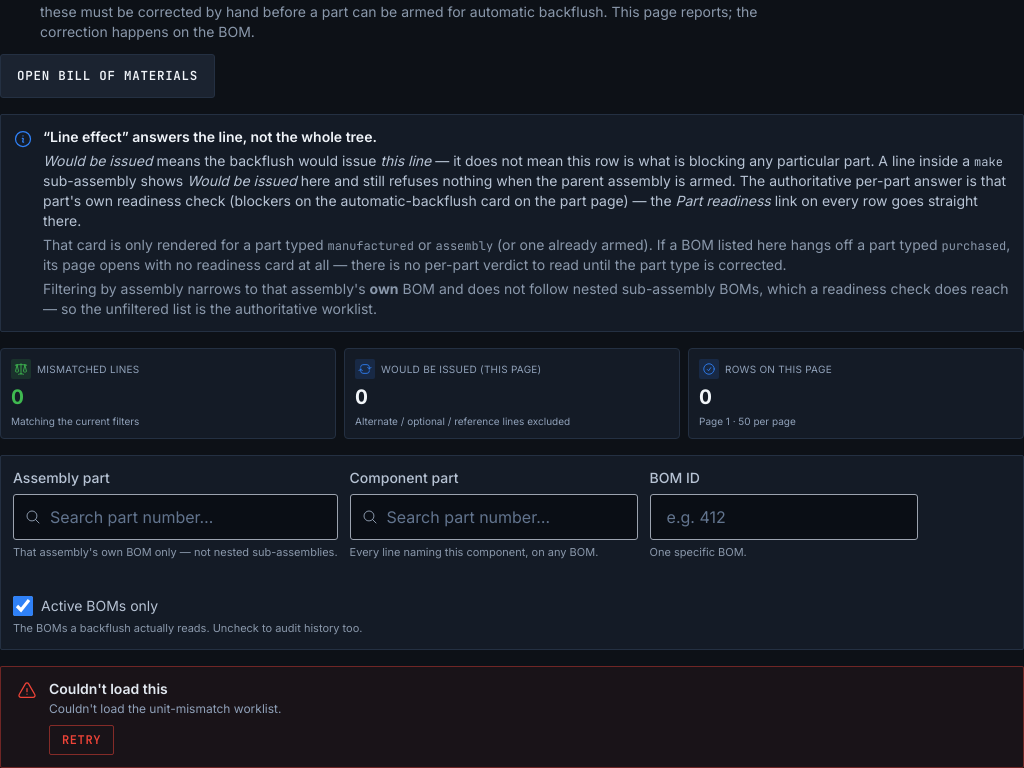
Scenario: BOMUomMismatches — failed load › Retry actually re-runs the fetch and recovers
(page scrolled)
Expected: the message "Couldn't load this Couldn't load the unit-mismatch worklist. Retry" is shown, [0, 666, 1023, 767]
Step 1. Click the button "Retry" → (82, 740), box [49, 724, 114, 754]
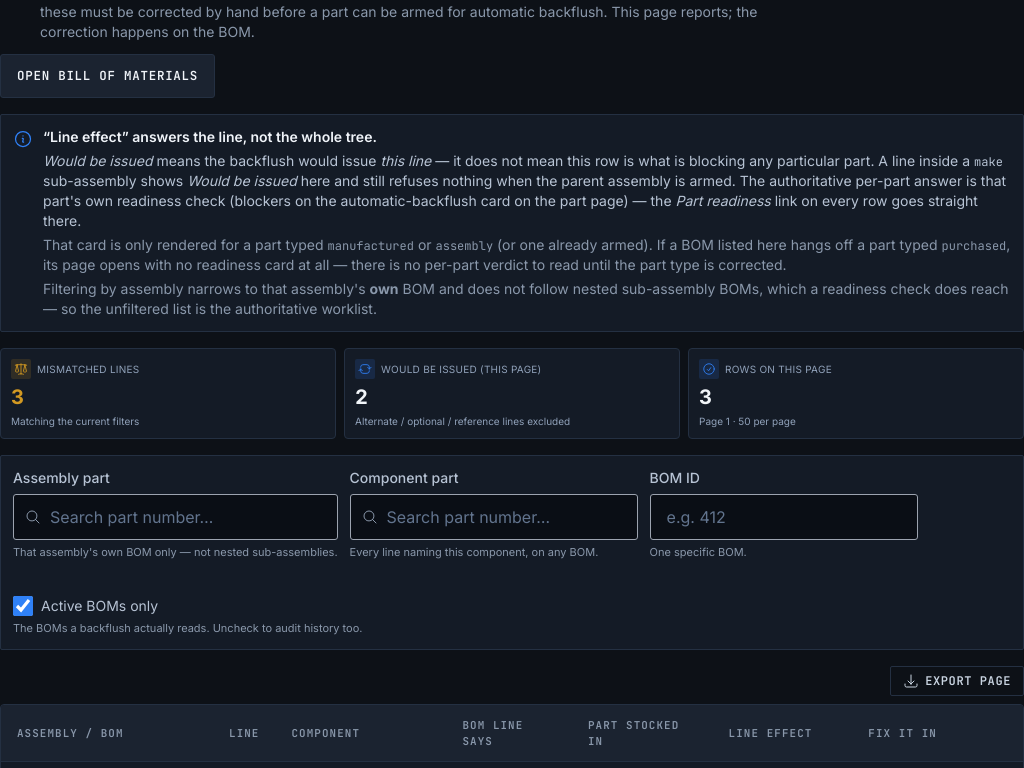
Expected: the message with test id "error-state" is gone
